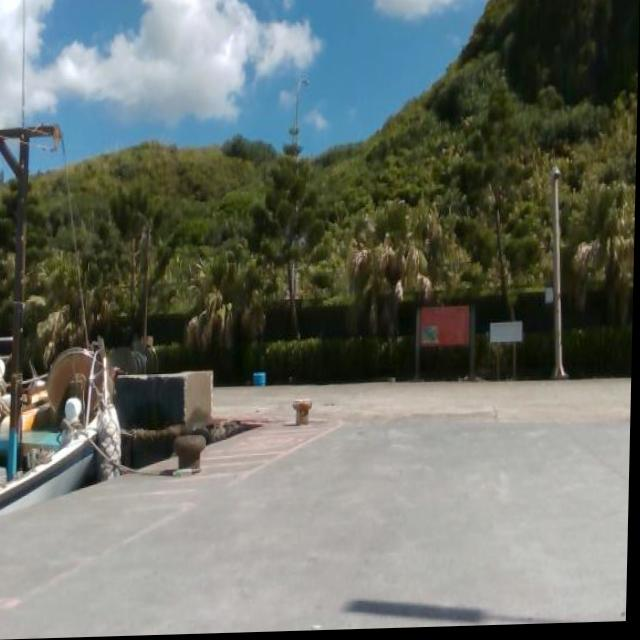pollute: (253, 373, 268, 388)
